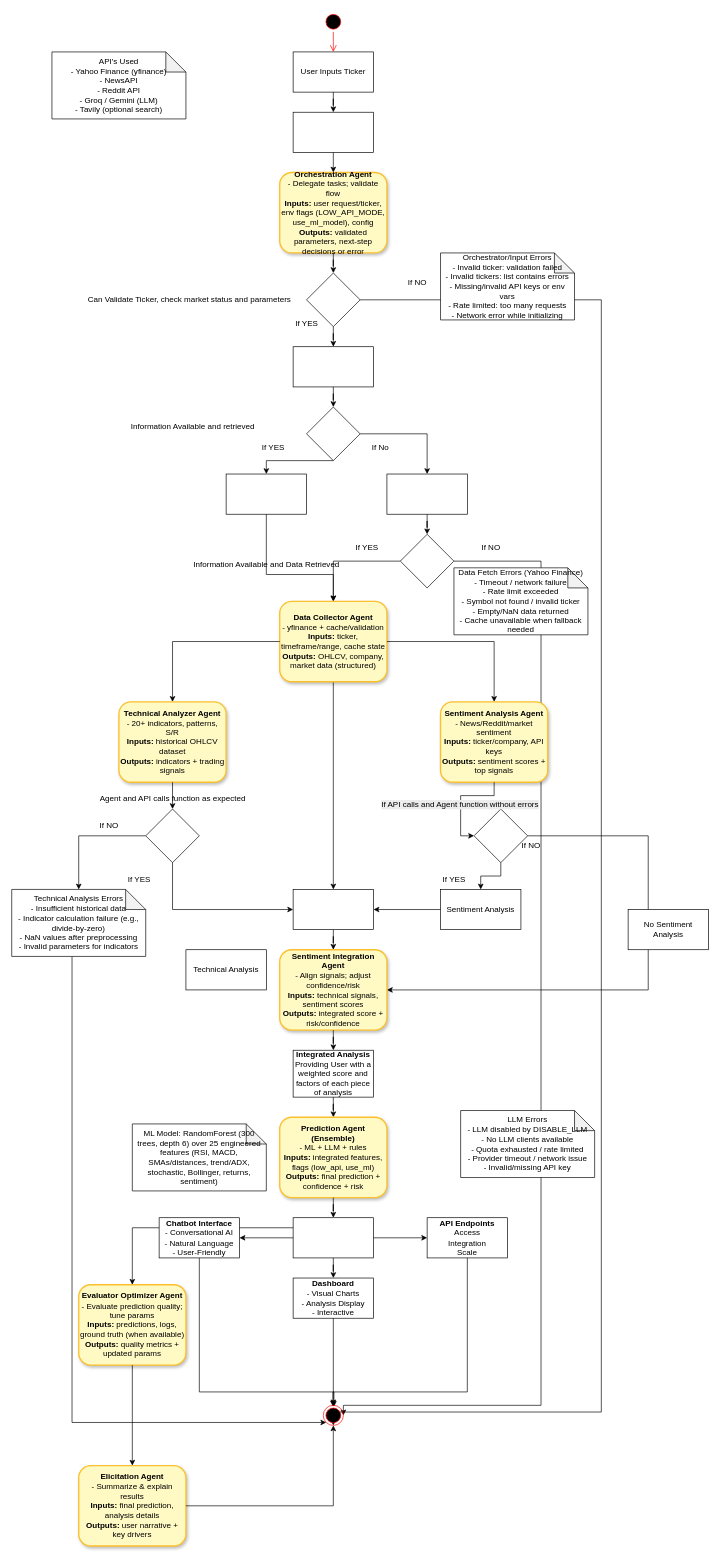
This 720x1563 diagram has some shape labels left out. The centre of each missing label's shape, as x and y in pixels:
Data Collection - Pulls information from Yahoo Finance API: (333,366)
Final Prediction: (333,1237)
Structured Data Package: (333,909)
System Initialization - Set up Env - Initialize Cache: (333,132)
Use cached data (if fetch timeout): (426,493)
Yahoo Finance Data: (266,493)
